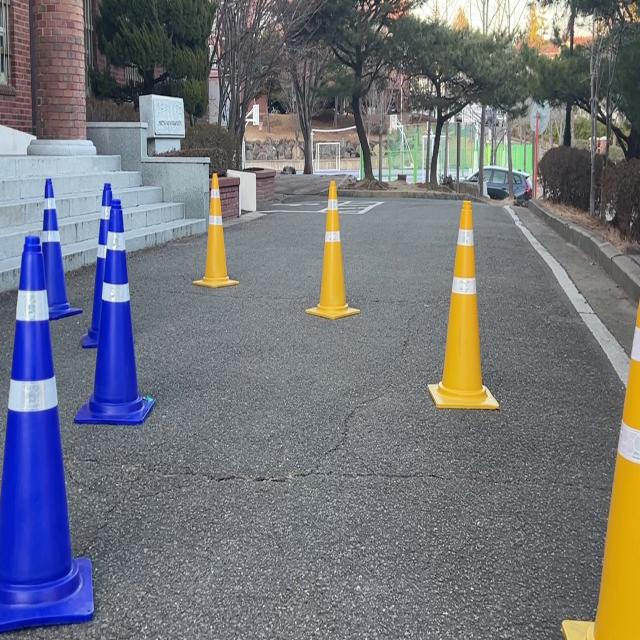cone: (82, 200, 156, 423), (427, 200, 497, 405), (32, 177, 87, 320), (306, 180, 360, 318), (84, 189, 129, 346), (193, 173, 240, 289)
